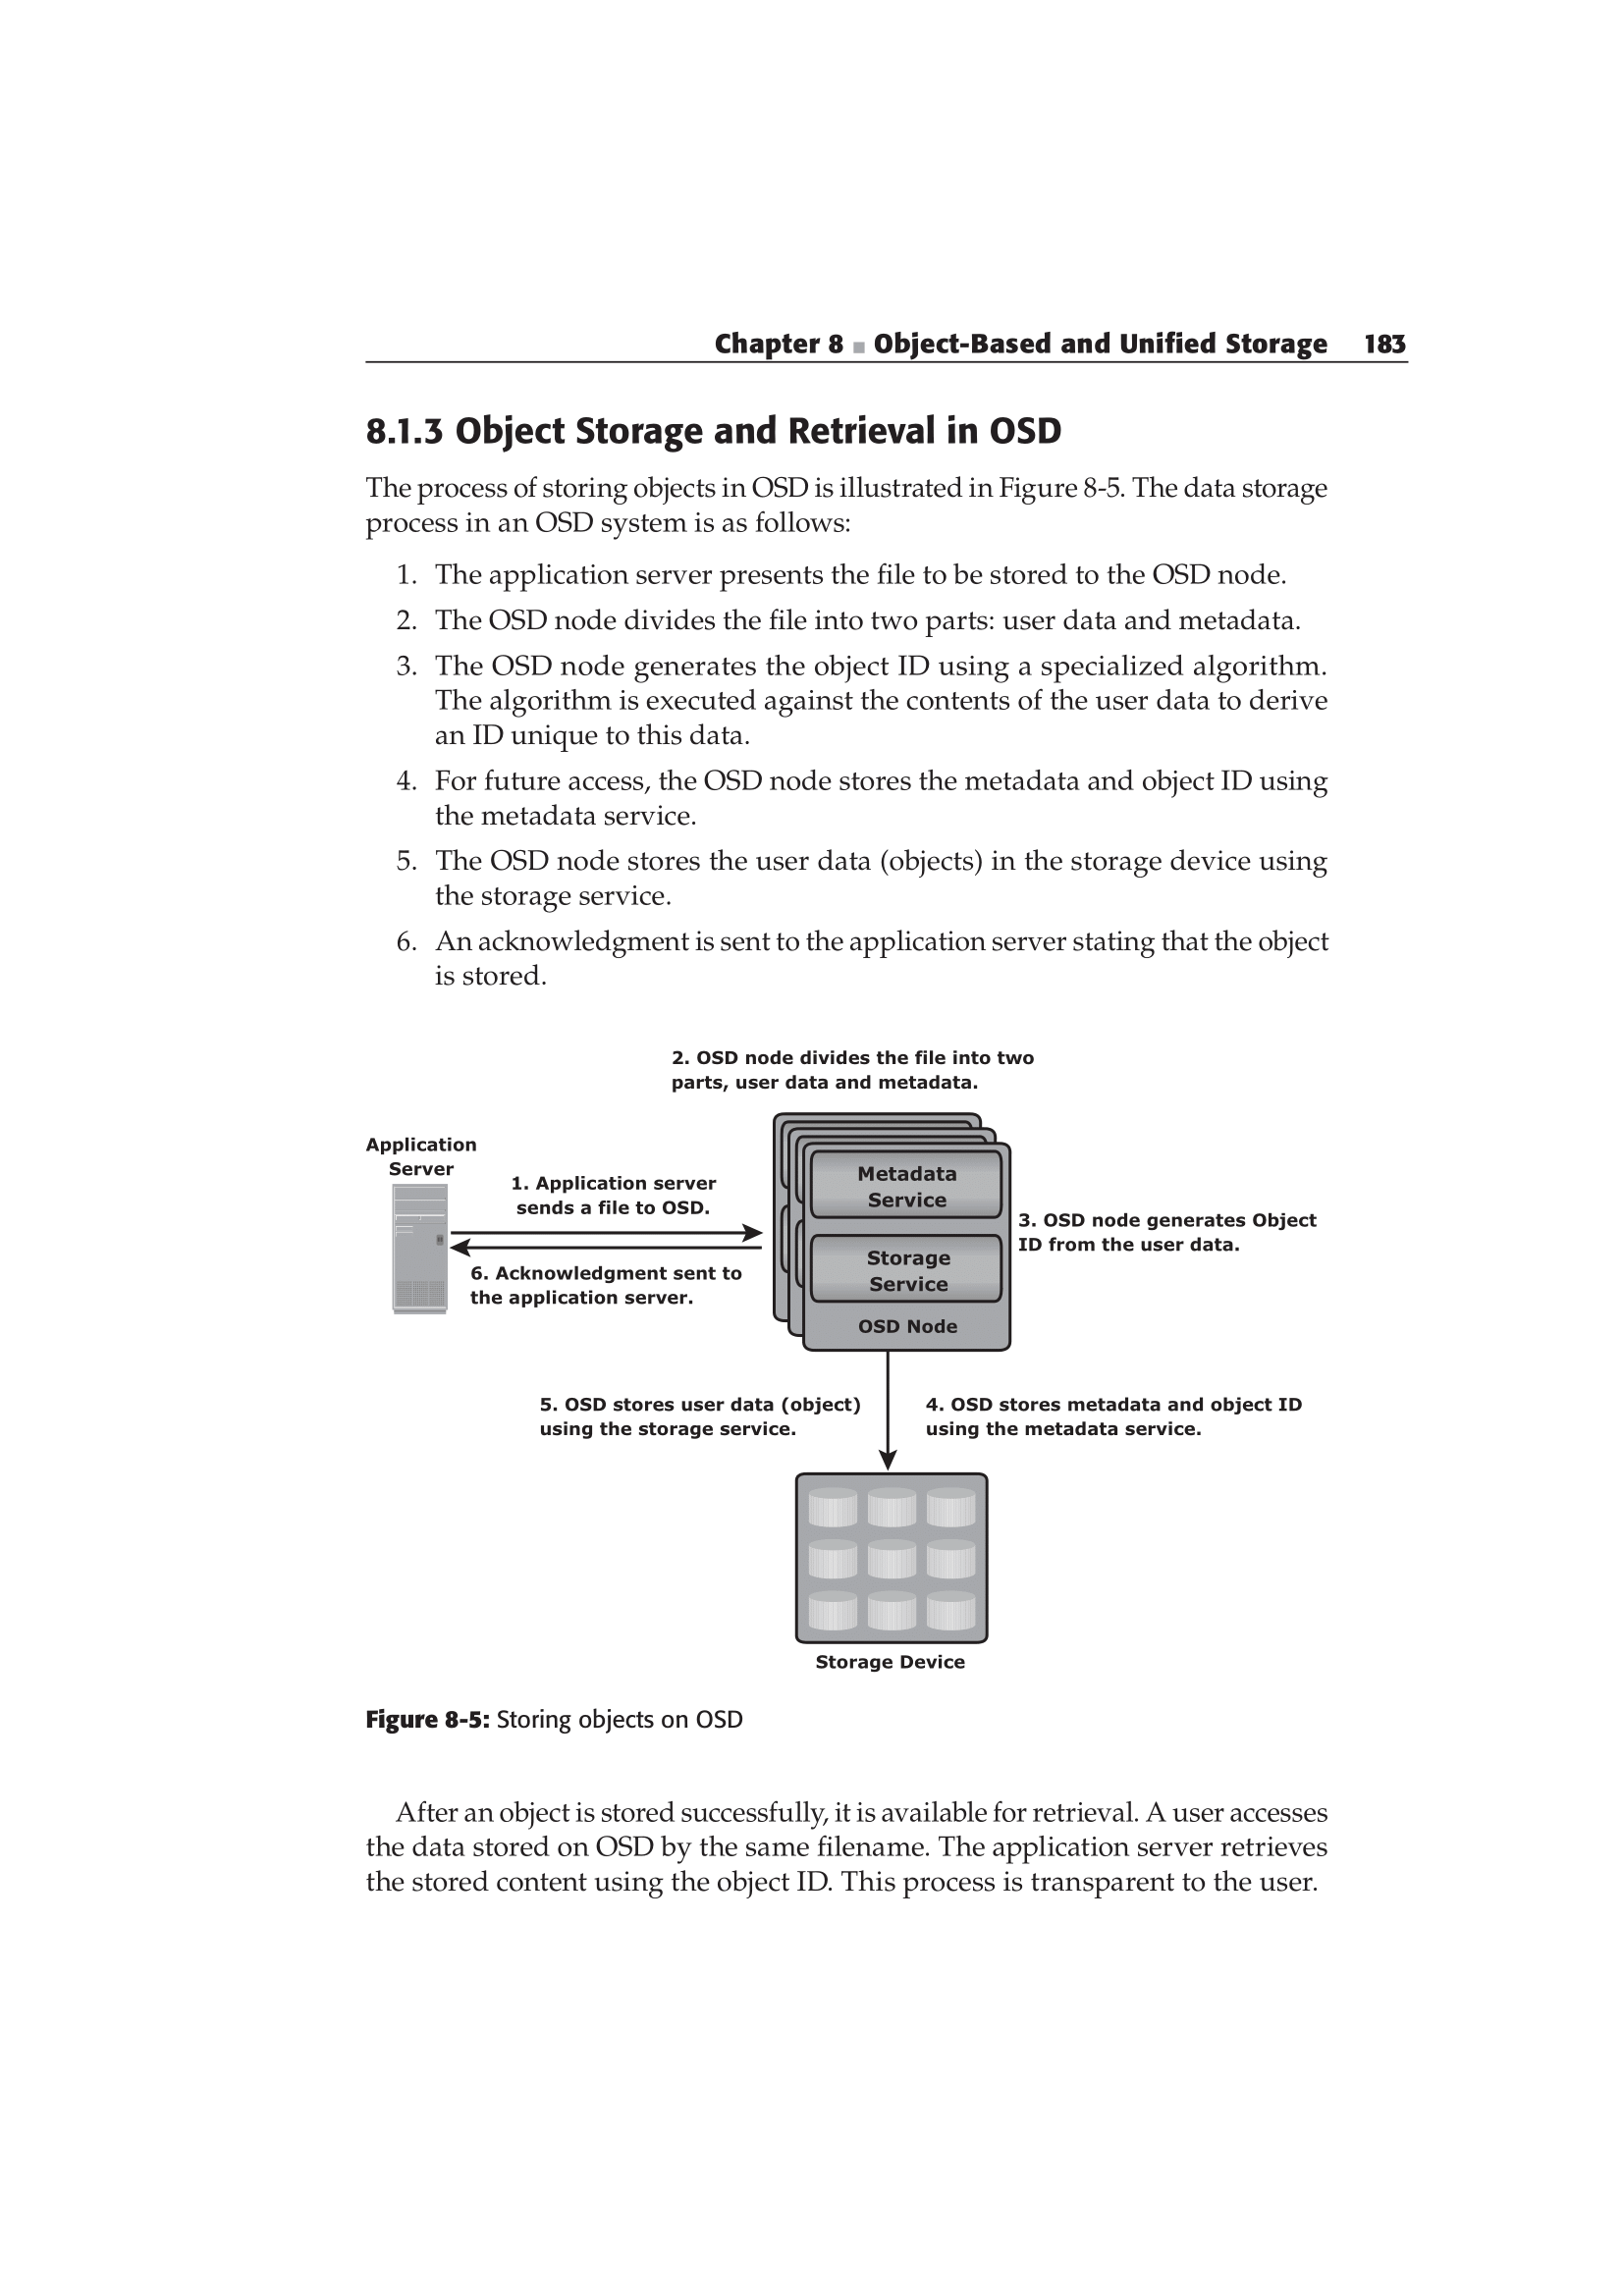Image: (371, 1018, 1338, 1685)
Paragraph: (360, 1794, 1347, 1913), (434, 649, 1345, 746), (423, 753, 1335, 836), (348, 470, 1338, 542), (427, 922, 1333, 999), (430, 843, 1338, 915), (689, 311, 1430, 374), (337, 402, 1077, 456), (429, 555, 1291, 597), (429, 604, 1303, 639), (348, 1689, 762, 1754)
